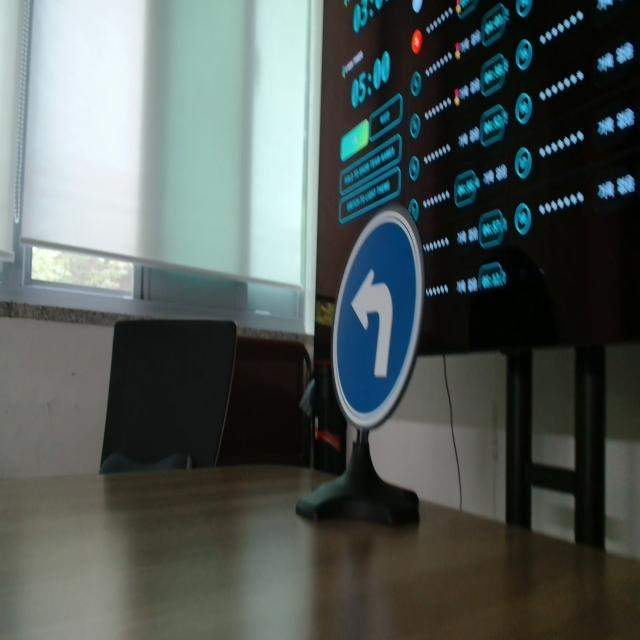left_direction: (332, 198, 428, 434)
